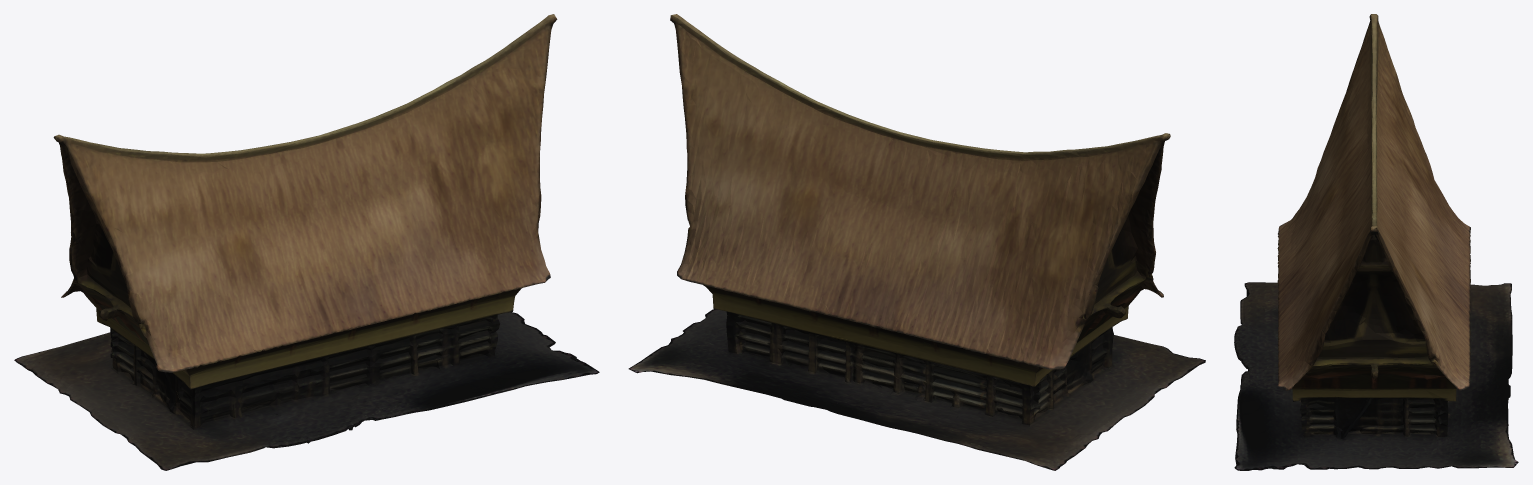
File: sumatera-utara.glb
The picture shows the model from 3 angles, left to right: view 1: azimuth 30°, elevation 25°; view 2: azimuth 150°, elevation 25°; view 3: azimuth 270°, elevation 25°; orthographic projection. The views are drawn at different scales.
Parts seen in each view (by area): view 1: world; view 2: world; view 3: world.
Boxes of the visible parts, <box> form: world: <box>14,14,599,470</box>; world: <box>628,14,1205,470</box>; world: <box>1234,14,1518,470</box>.
Size of the model in its own units: 0.7004 by 0.3987 by 0.3927.
Materials: 1 (1 with a texture image).
